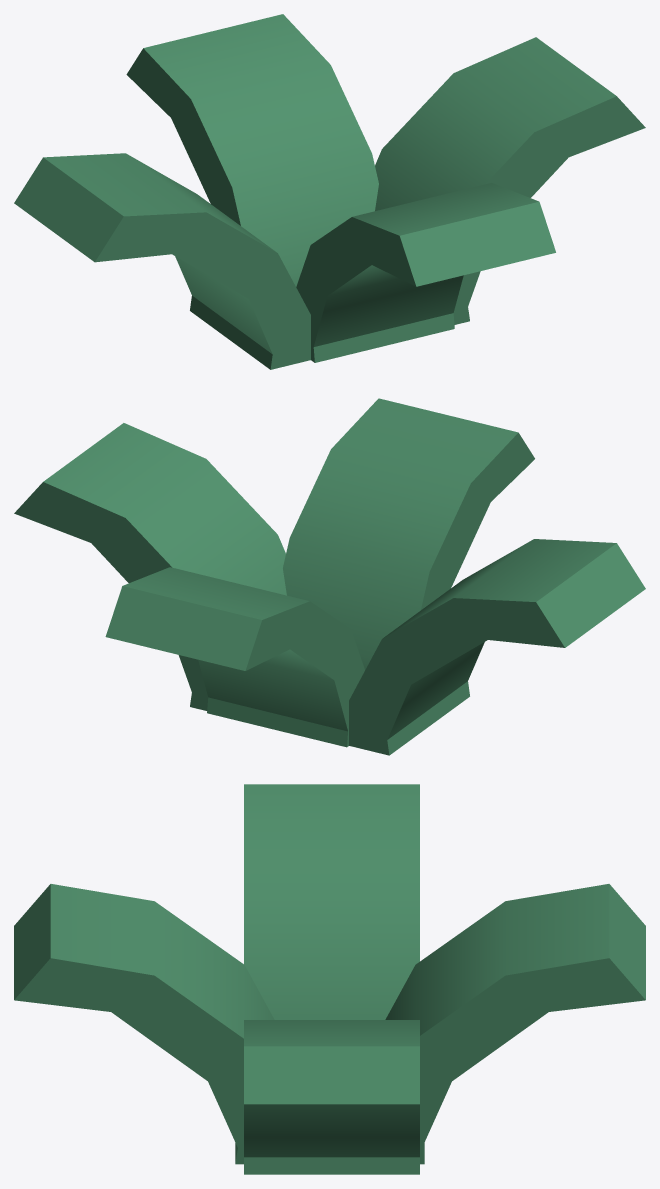
Rendered from Sprout.fbx.
3 renders of one model, top to bottom at view 1: azimuth 30°, elevation 25°; view 2: azimuth 150°, elevation 25°; view 3: azimuth 270°, elevation 25°, orthographic. The views are drawn at different scales.
Visible parts, largest first — view 1: Sprout; view 2: Sprout; view 3: Sprout.
Boxes of the visible parts, x1,y1,x2,y2 form: Sprout: (14, 14, 645, 369); Sprout: (14, 398, 645, 755); Sprout: (14, 784, 645, 1174).
Bounding box in the file's own units: 2.18 × 0.7159 × 1.99.
